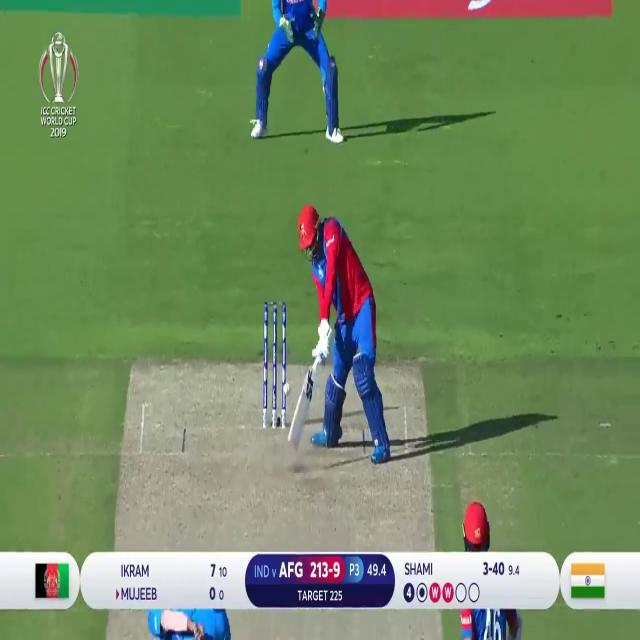ball: (282, 377, 292, 400)
